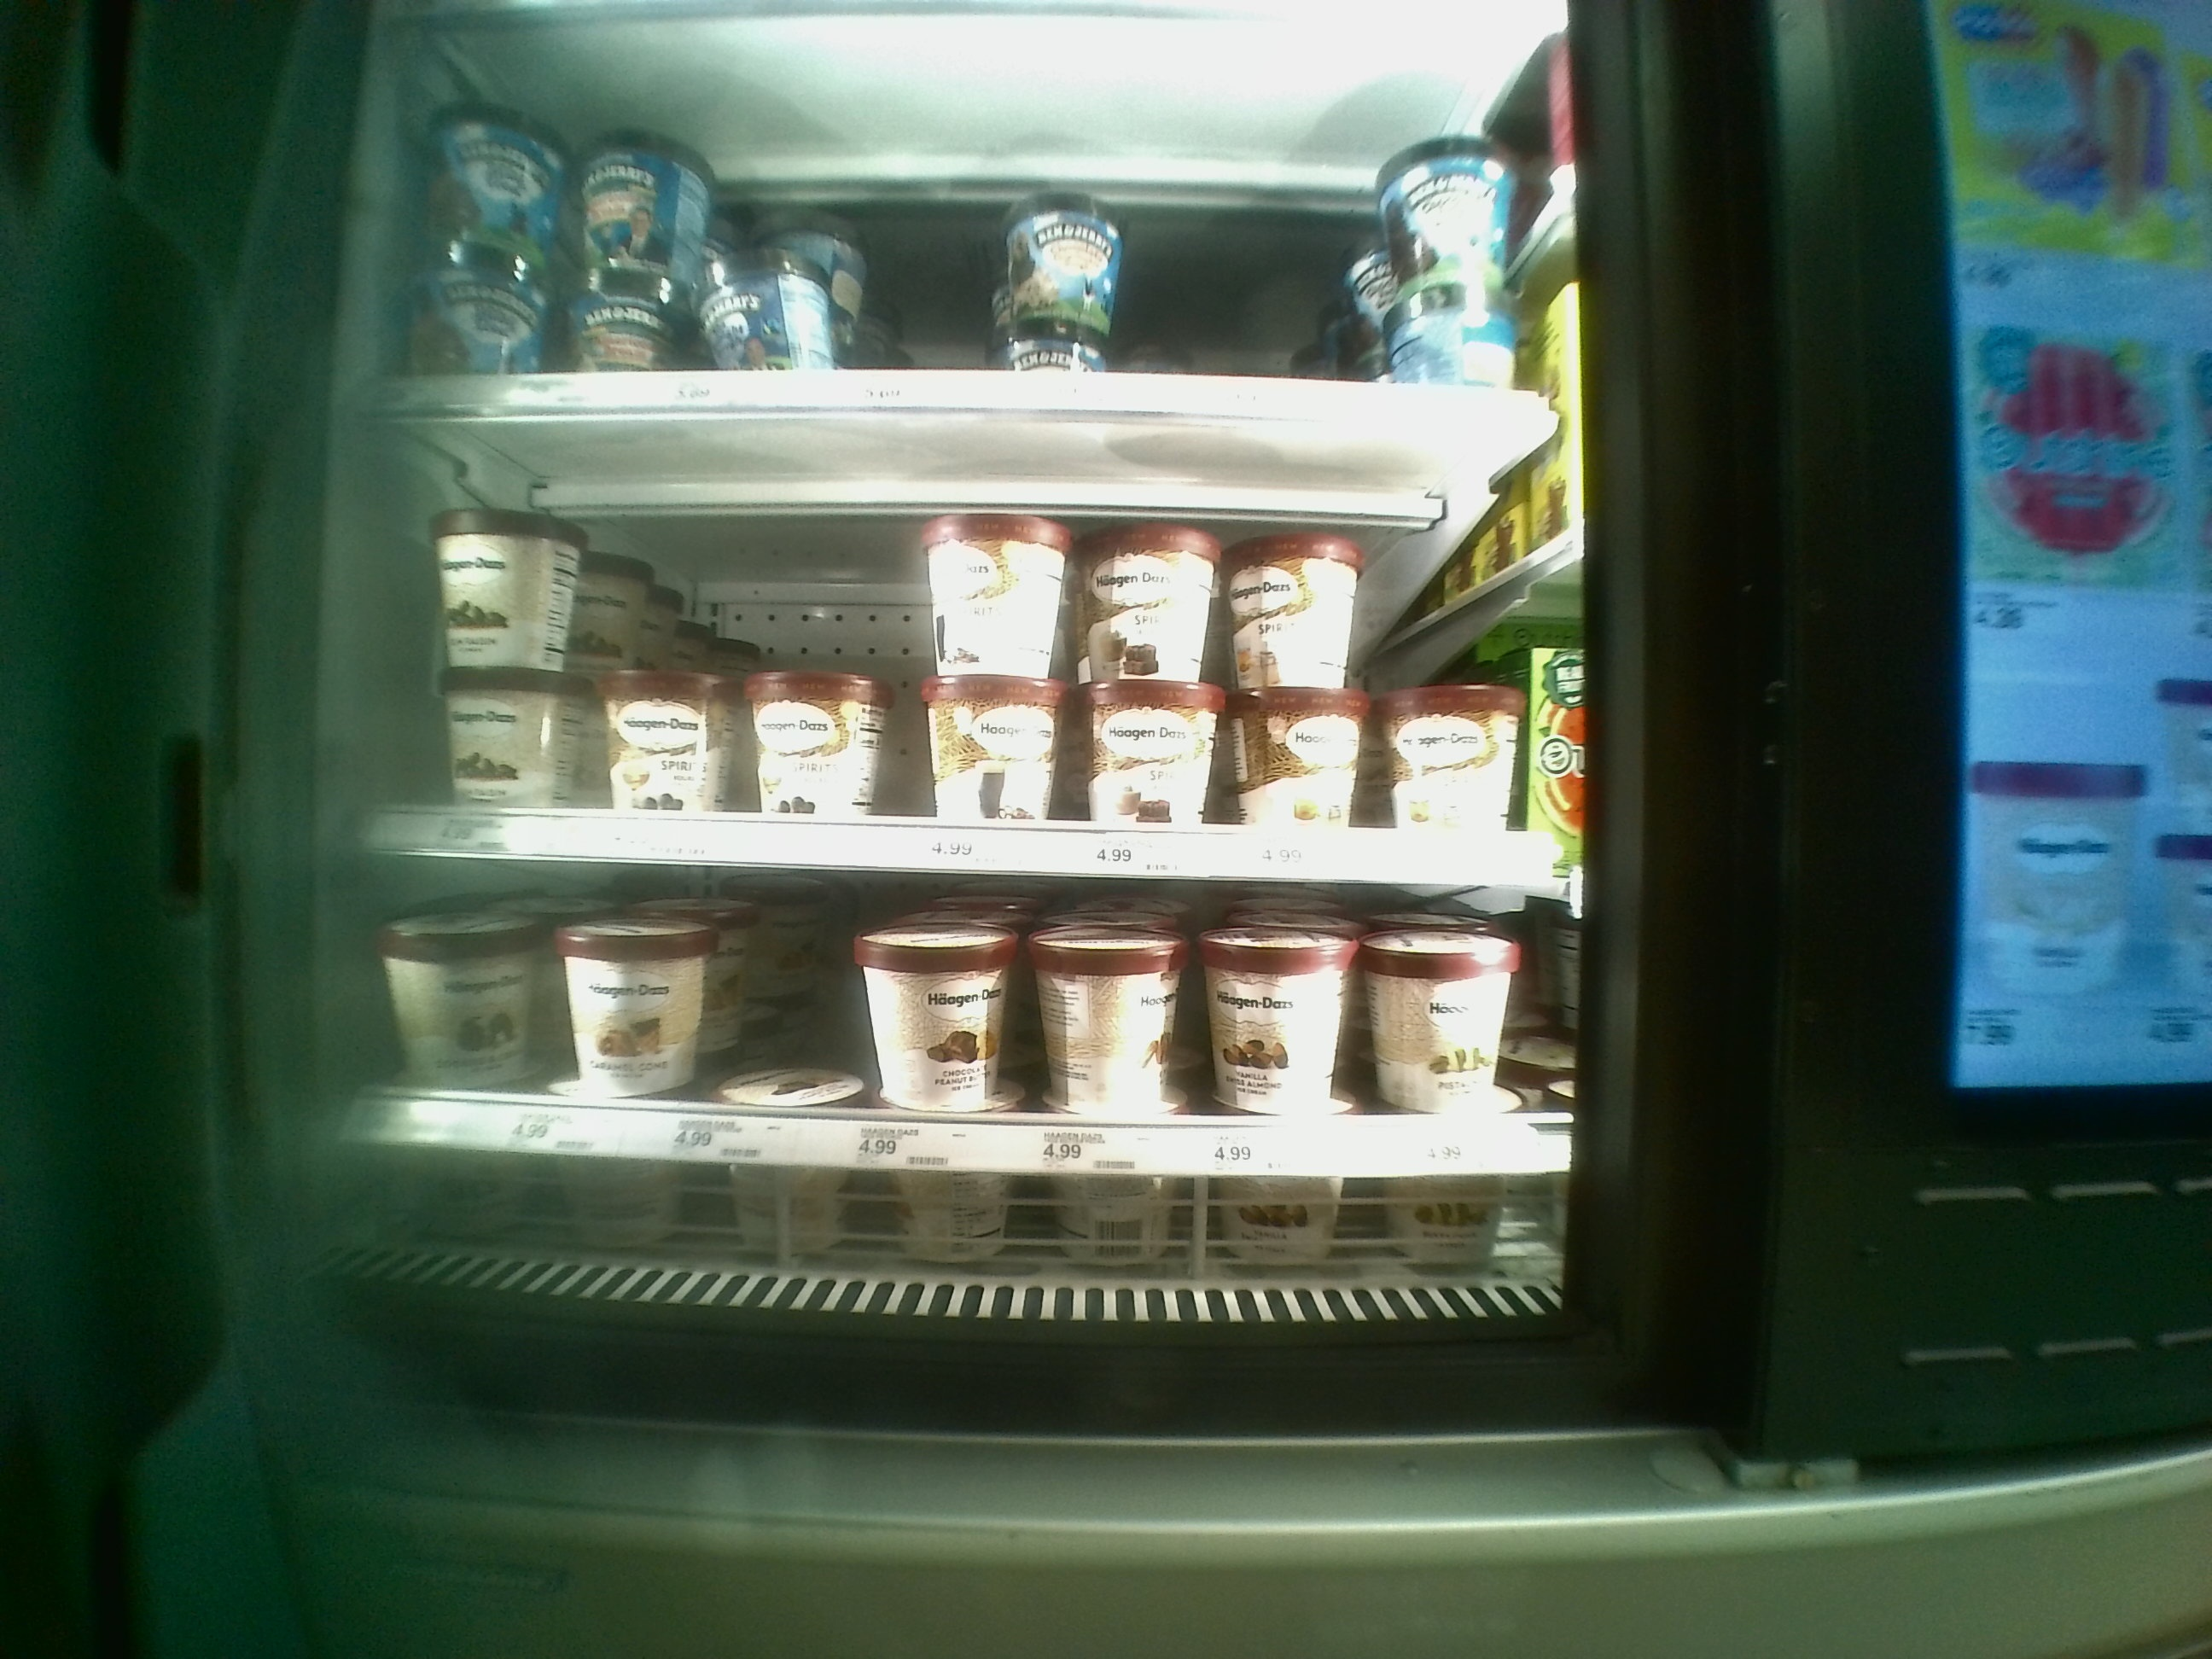shelf: (381, 432, 1547, 877), (387, 28, 1521, 423), (383, 857, 1562, 1171)
